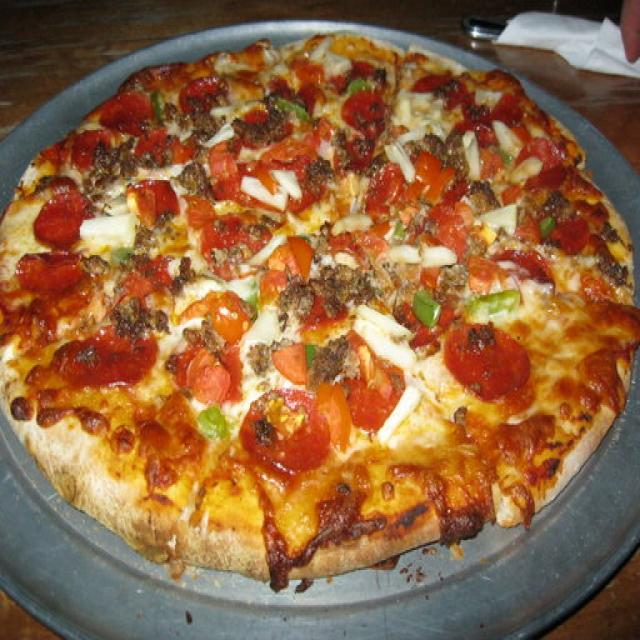Beef: (284, 271, 378, 315), (420, 248, 470, 312), (311, 145, 397, 182), (401, 139, 477, 175), (87, 147, 142, 188), (217, 114, 290, 144), (306, 342, 350, 382), (239, 339, 289, 374), (446, 189, 510, 216), (105, 303, 167, 328), (448, 324, 506, 347), (181, 162, 222, 192), (72, 343, 110, 369), (81, 252, 115, 280), (587, 255, 621, 280), (463, 95, 482, 134)
Green Pepper: (178, 404, 235, 454), (459, 282, 529, 320), (239, 267, 273, 319), (293, 342, 325, 374), (404, 296, 434, 330), (266, 100, 321, 118), (199, 410, 224, 447), (374, 220, 409, 235), (112, 248, 140, 266), (535, 211, 552, 238), (150, 95, 171, 114), (349, 79, 373, 93)
Onions: (222, 168, 308, 215), (230, 228, 298, 278), (368, 242, 464, 274), (80, 207, 138, 259), (348, 324, 417, 367), (230, 224, 288, 272), (174, 277, 267, 300), (366, 144, 410, 190), (308, 206, 367, 233), (453, 132, 483, 184), (240, 174, 293, 202), (478, 205, 525, 235), (204, 100, 238, 132), (486, 139, 537, 159)
Pepperoni: (196, 136, 325, 214), (242, 384, 329, 472), (436, 320, 534, 398), (316, 342, 403, 424), (56, 318, 154, 379), (160, 348, 238, 413), (180, 282, 252, 348), (15, 254, 98, 306), (36, 185, 100, 250), (524, 199, 588, 252), (51, 132, 131, 170), (494, 244, 554, 294), (461, 88, 528, 132), (508, 125, 546, 198), (132, 175, 176, 229), (172, 68, 229, 107), (414, 70, 469, 106), (182, 184, 219, 236), (339, 89, 377, 130), (105, 98, 150, 131), (538, 143, 564, 198)
Pizza: (0, 33, 640, 585)
